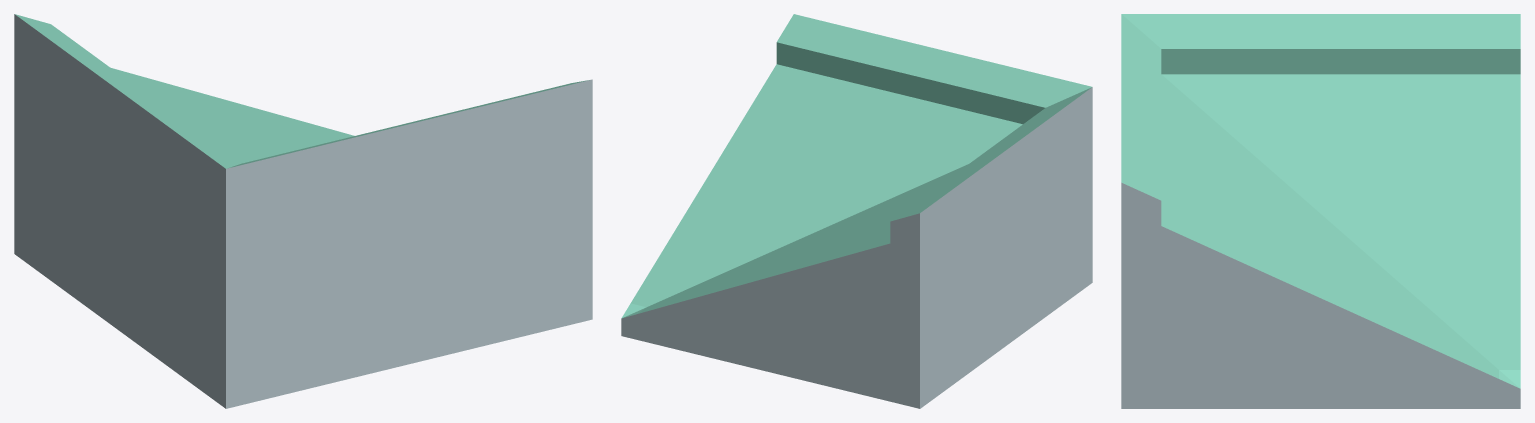
Rendered from roofCornerInner.glb.
3 views of the same model, side by side, from view 1: azimuth 30°, elevation 25°; view 2: azimuth 150°, elevation 25°; view 3: azimuth 270°, elevation 25° (orthographic). The views are drawn at different scales.
Parts seen in each view (by area): view 1: roofCornerInner; view 2: roofCornerInner; view 3: roofCornerInner.
Boxes of the visible parts, x1=… form: roofCornerInner: x1=14, y1=14, x2=592, y2=408; roofCornerInner: x1=621, y1=14, x2=1092, y2=408; roofCornerInner: x1=1121, y1=14, x2=1520, y2=408.
Size of the model in its own units: 1 by 0.6259 by 1.
